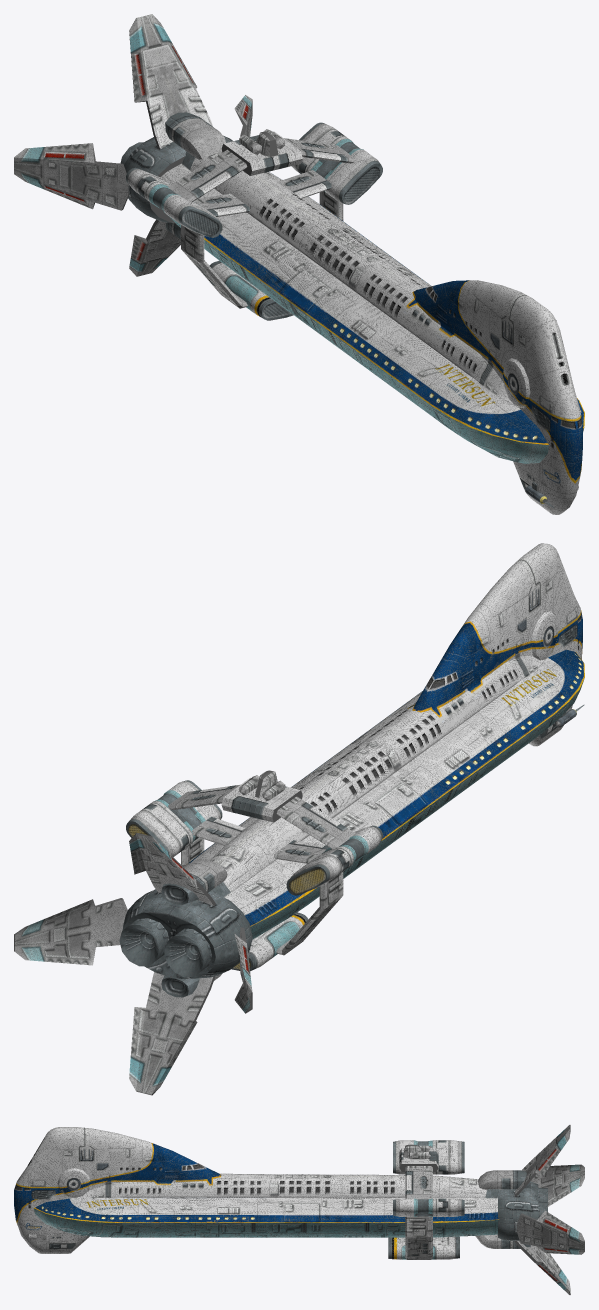
File: Colonial ONE.dae
The picture shows the model from 3 angles, top to bottom: view 1: azimuth 30°, elevation 25°; view 2: azimuth 150°, elevation 25°; view 3: azimuth 270°, elevation 25°; orthographic projection. The views are drawn at different scales.
Parts seen in each view (by area): view 1: colcol1cox_3 (×17); view 2: colcol1cox_3 (×20); view 3: colcol1cox_3 (×16).
Part boxes in pixels (bbox=[...]): colcol1cox_3 (×17): bbox=[14, 14, 584, 514]; colcol1cox_3 (×20): bbox=[14, 543, 584, 1094]; colcol1cox_3 (×16): bbox=[14, 1125, 584, 1293].
Size of the model in its own units: 1013 by 3272 by 1051.
